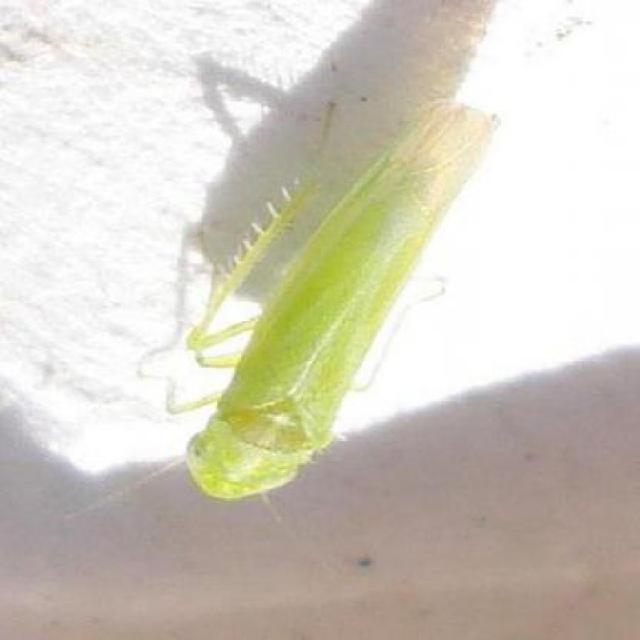green-leafhopper: (187, 108, 495, 510)
